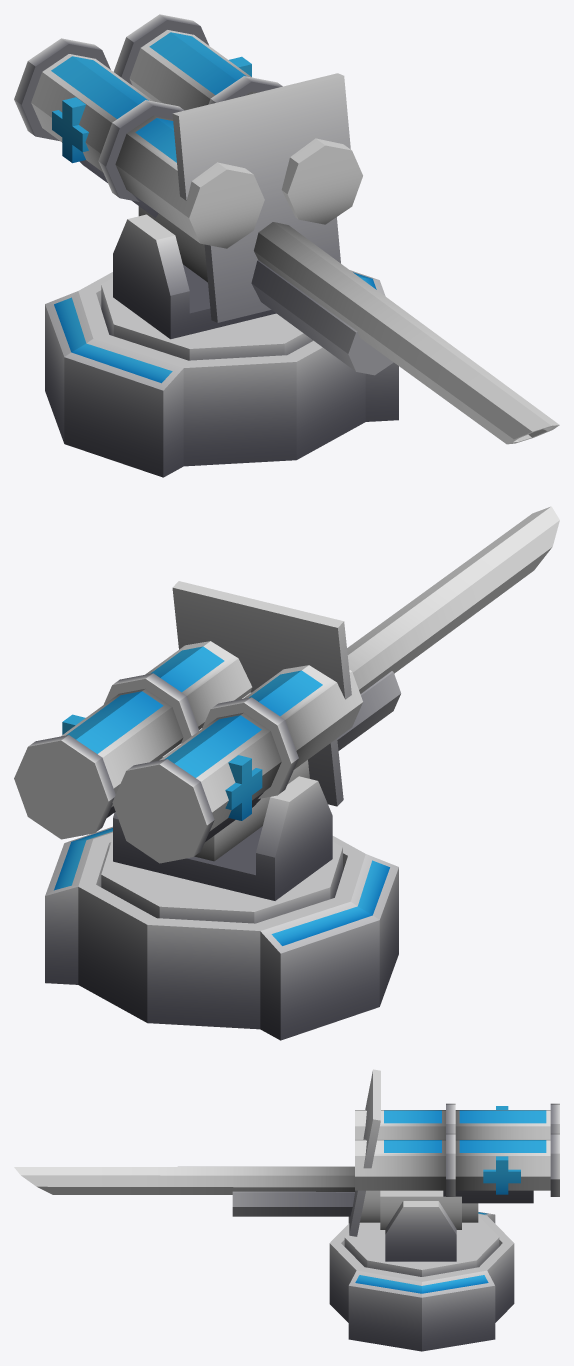
The model's file is Gunringue.fbx.
The picture shows the model from 3 angles, top to bottom: view 1: azimuth 30°, elevation 25°; view 2: azimuth 150°, elevation 25°; view 3: azimuth 270°, elevation 25°; orthographic projection. The views are drawn at different scales.
Visible parts, largest first — view 1: GunringueTourelle, Gunringue; view 2: GunringueTourelle, Gunringue; view 3: GunringueTourelle, Gunringue.
Part boxes in pixels (x1,y1,x2,y2): GunringueTourelle: (14, 14, 559, 444); Gunringue: (45, 270, 398, 477); GunringueTourelle: (14, 506, 559, 923); Gunringue: (45, 826, 398, 1040); GunringueTourelle: (14, 1069, 559, 1276); Gunringue: (329, 1212, 514, 1351).
Bounding box in the file's own units: 2 × 2.05 × 4.84.
